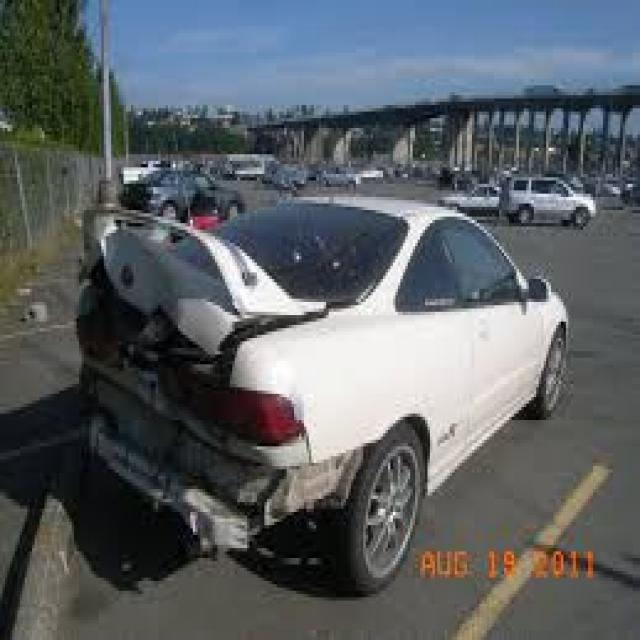moderate: (86, 211, 391, 553)
